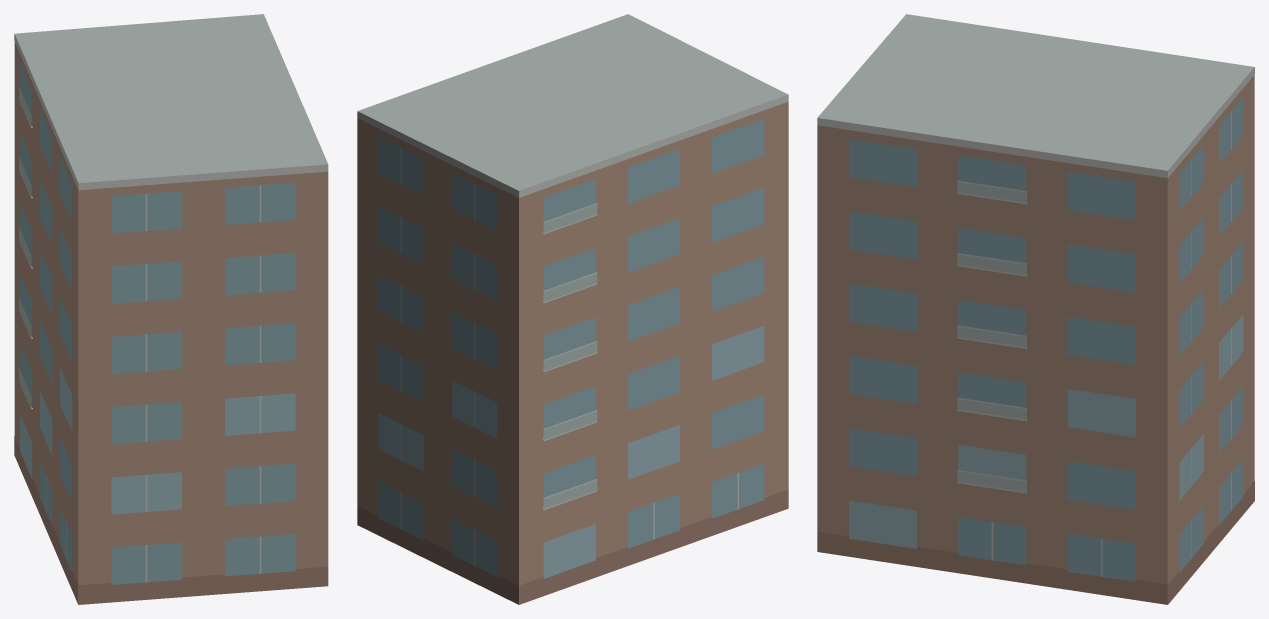
The model's file is survey-upis-32893541.glb.
3 views of the same model, side by side, from view 1: azimuth 30°, elevation 25°; view 2: azimuth 150°, elevation 25°; view 3: azimuth 270°, elevation 25° (orthographic). The views are drawn at different scales.
Parts seen in each view (by area): view 1: survey-upis-32893541.tmp; view 2: survey-upis-32893541.tmp; view 3: survey-upis-32893541.tmp.
Part boxes in pixels (box(x1,y1,x2,y2)): survey-upis-32893541.tmp: box(14, 14, 328, 604); survey-upis-32893541.tmp: box(357, 14, 788, 604); survey-upis-32893541.tmp: box(817, 14, 1254, 604).
Bounding box in the file's own units: 11.2 × 14.44 × 13.2.
